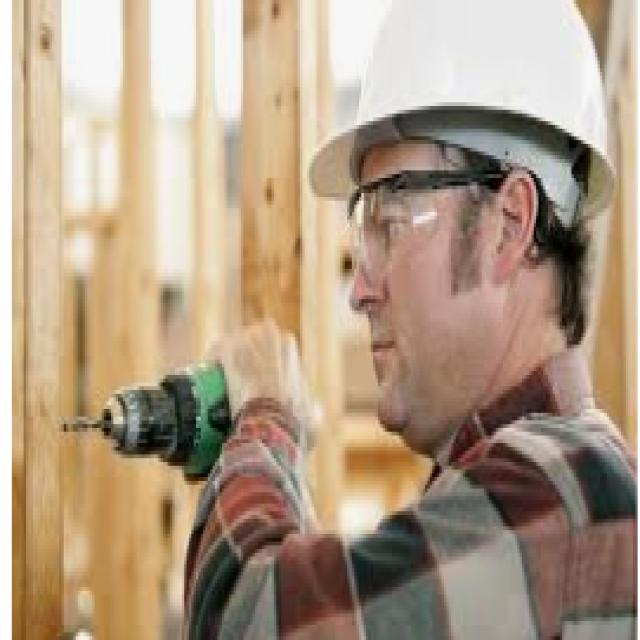glasses: (335, 165, 559, 271)
